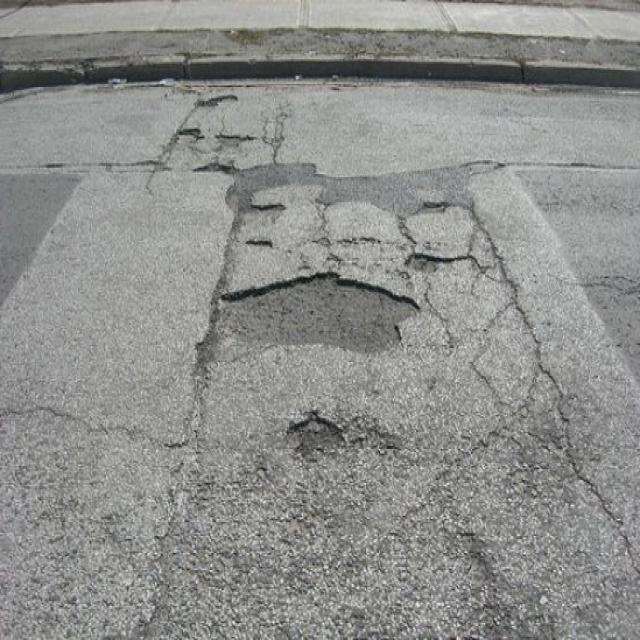pothole: (219, 264, 427, 353)
